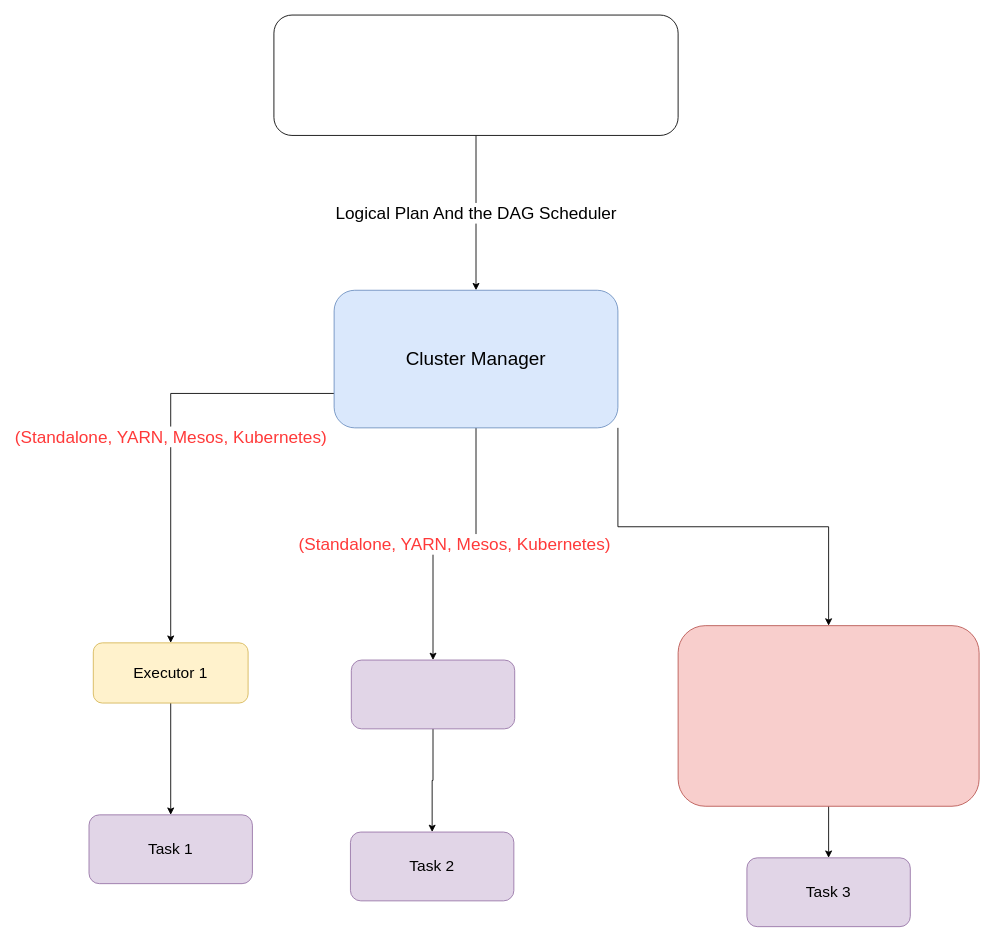
Some shapes in this 994 by 942 pixel diagram are drawn without their labels. The shapes that lost their labels are listed below. From the top down, each one's centre as x and y in pixels, then its label:
[475,74]: Driver Program
[432,694]: Executor 2
[828,715]: Executor 3
